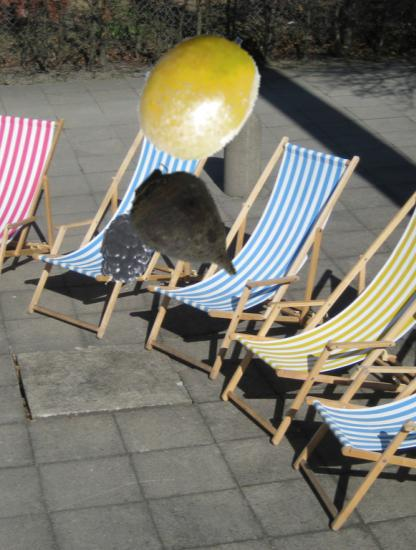Beetroot: (121, 160, 256, 295)
Maracuja: (129, 25, 269, 165)
Mulberry: (95, 210, 177, 292)
